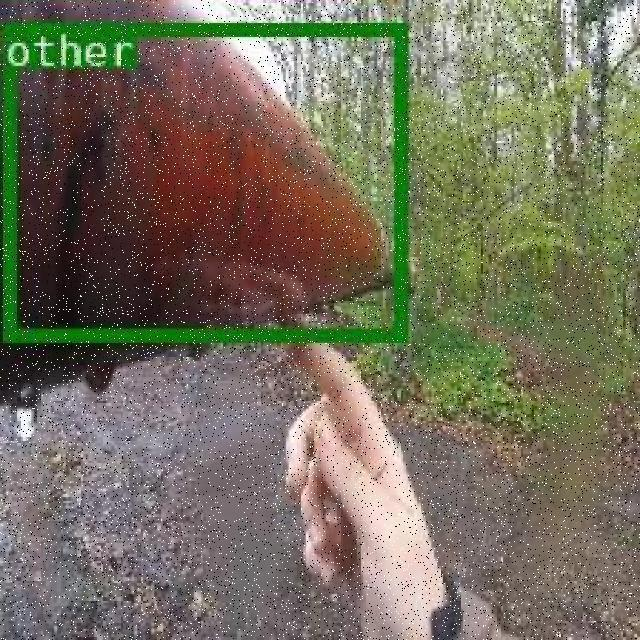Smoke: (1, 23, 404, 340)
